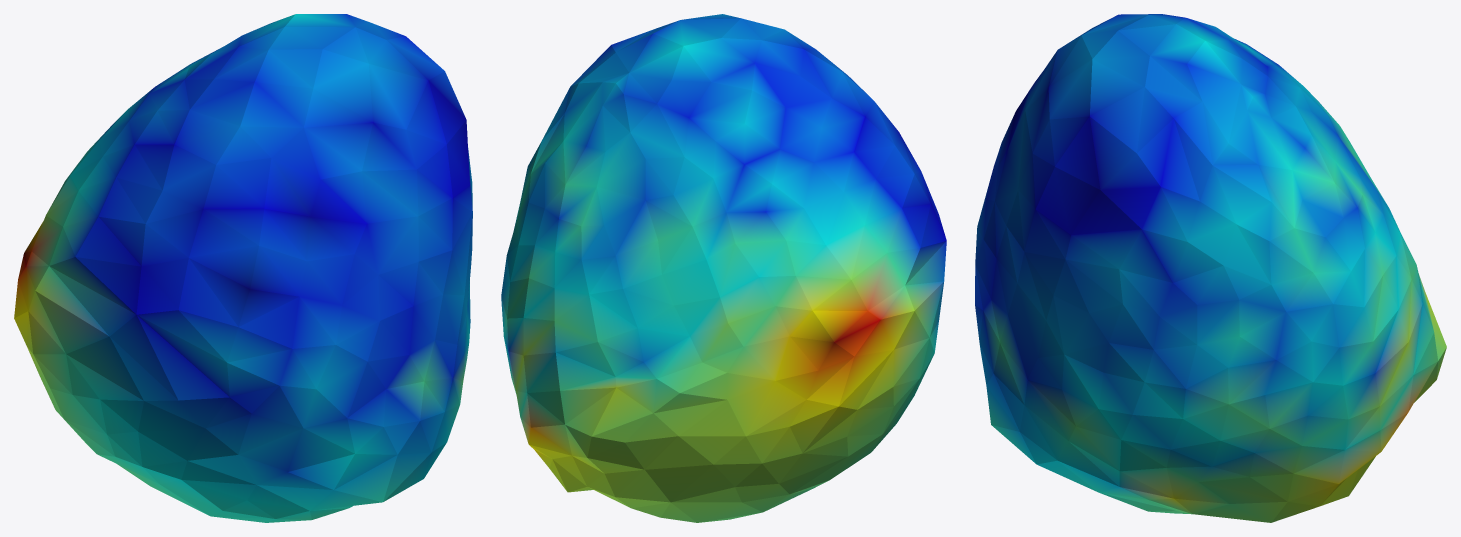
File: heartwithColor108.obj
The picture shows the model from 3 angles, left to right: view 1: azimuth 30°, elevation 25°; view 2: azimuth 150°, elevation 25°; view 3: azimuth 270°, elevation 25°; orthographic projection. The views are drawn at different scales.
Bounding box in the file's own units: 71.7 × 81.16 × 72.94.
